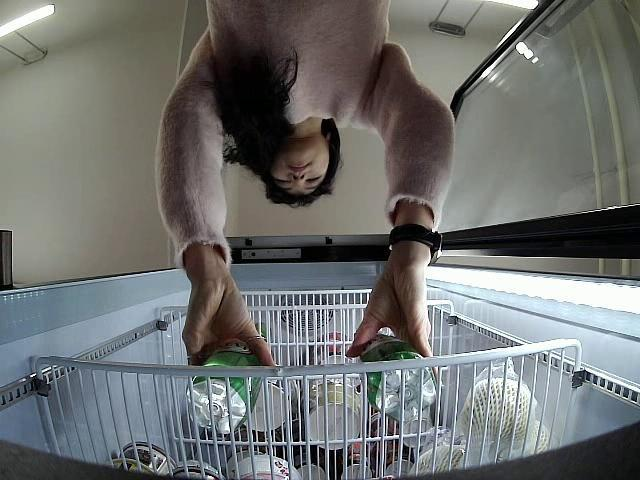18_trevi: (185, 340, 265, 435), (361, 334, 440, 419)
